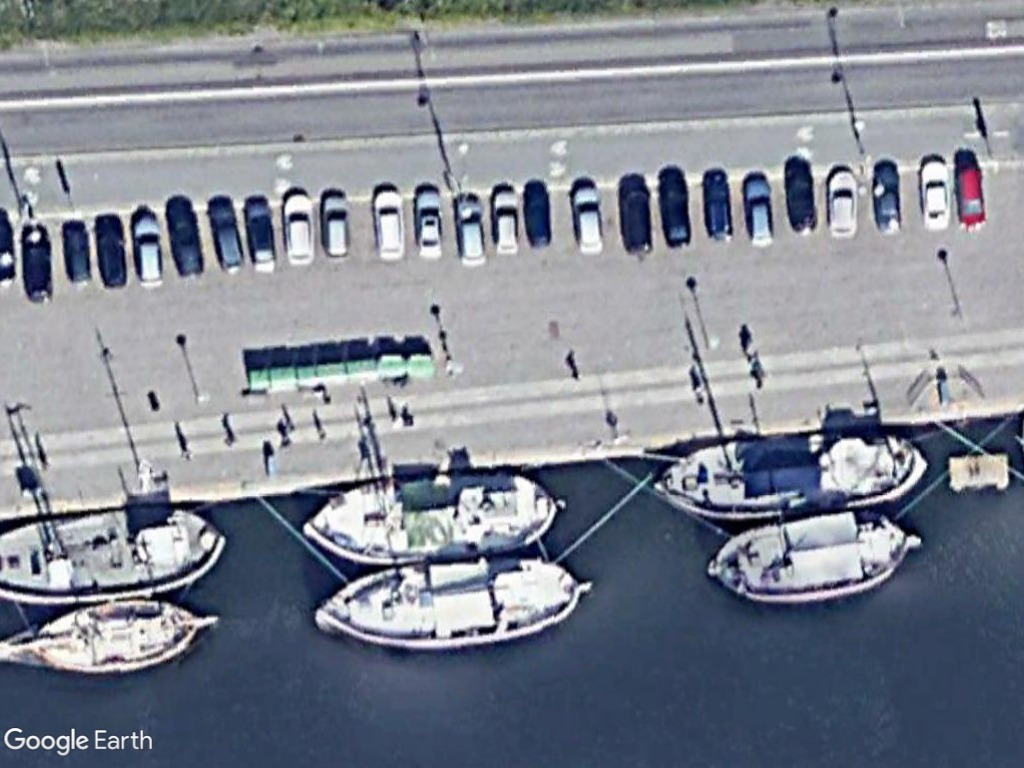boat: (312, 544, 589, 657), (291, 461, 565, 571), (649, 419, 932, 525), (0, 497, 243, 604), (699, 511, 935, 611), (1, 593, 223, 680)
car: (368, 181, 413, 267), (126, 207, 170, 293), (203, 194, 248, 277), (613, 179, 658, 260), (653, 169, 695, 255), (408, 180, 451, 262), (738, 170, 780, 252), (278, 186, 319, 270), (821, 163, 864, 243), (565, 181, 608, 260), (448, 190, 491, 269), (913, 154, 955, 234), (238, 192, 278, 276), (484, 181, 526, 260), (780, 164, 823, 240), (867, 157, 906, 240), (695, 169, 737, 246), (315, 189, 357, 266), (950, 157, 991, 233)
